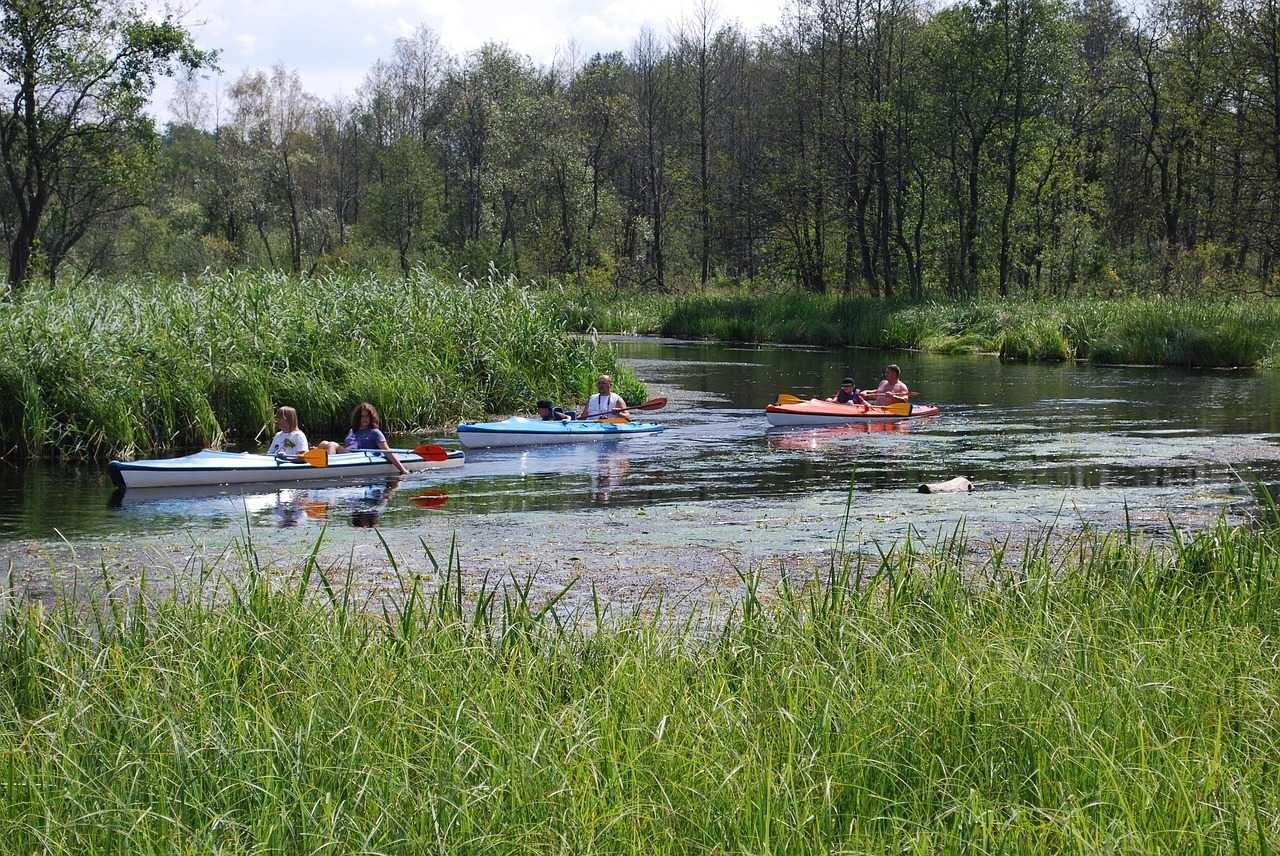kayak: (109, 448, 442, 491), (457, 415, 668, 450), (763, 396, 942, 428), (832, 379, 872, 411)
